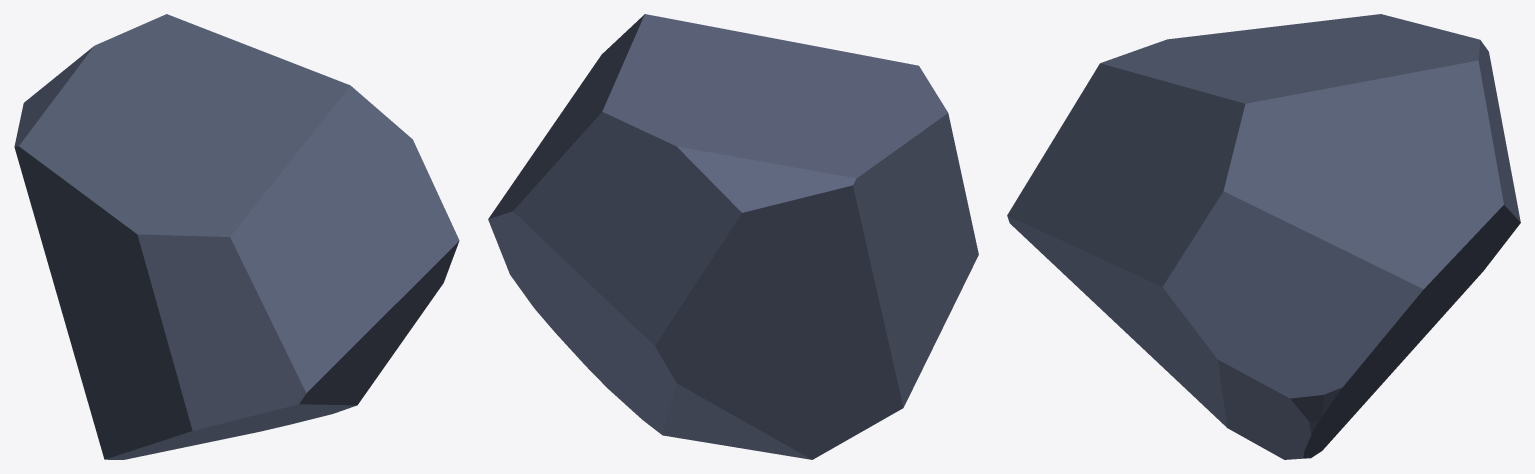
The model's file is Prop_Rock.fbx.
3 renders of one model, left to right at view 1: azimuth 30°, elevation 25°; view 2: azimuth 150°, elevation 25°; view 3: azimuth 270°, elevation 25°, orthographic. The views are drawn at different scales.
Visible parts, largest first — view 1: EXPORT_Prop_Rock; view 2: EXPORT_Prop_Rock; view 3: EXPORT_Prop_Rock.
Boxes of the visible parts, x1,y1,x2,y2 form: EXPORT_Prop_Rock: [14, 14, 459, 459]; EXPORT_Prop_Rock: [488, 14, 978, 459]; EXPORT_Prop_Rock: [1007, 14, 1520, 459].
Bounding box in the file's own units: 127 × 127 × 155.
